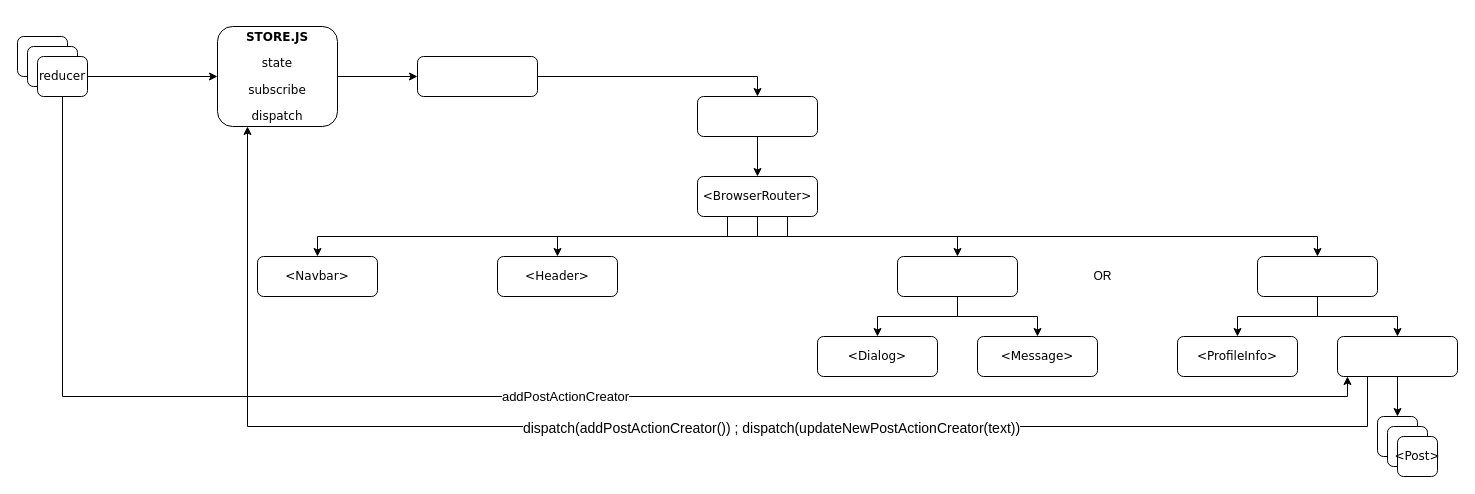
The diagram is 1475 pixels wide and 494 high, and some of its shapes have lost their labels. The centre of each missing label's shape, as x and y in pixels:
"<App>" goes at (x=757, y=116).
"<Dialogs>" goes at (x=957, y=276).
"<MyPosts>" goes at (x=1397, y=356).
"<Profile>" goes at (x=1317, y=276).
"Index.js" goes at (x=477, y=76).
